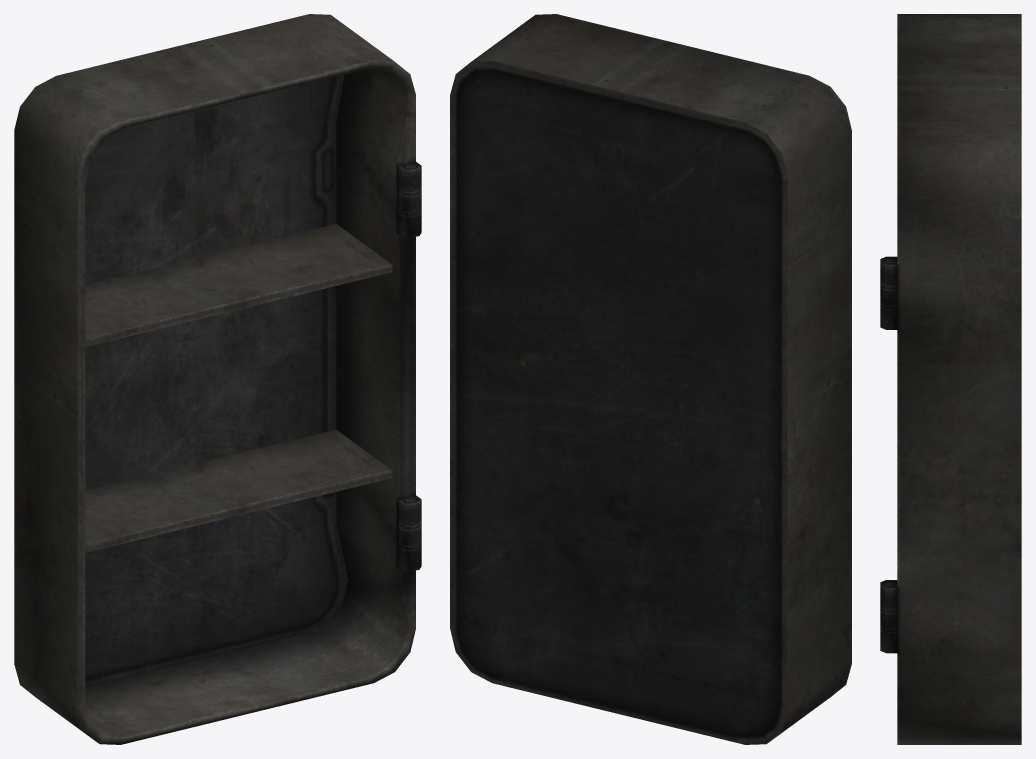
The model's file is cabinet_powerpack_storage_box.dae.
3 views of the same model, side by side, from view 1: azimuth 30°, elevation 25°; view 2: azimuth 150°, elevation 25°; view 3: azimuth 270°, elevation 25° (orthographic). The views are drawn at different scales.
Visible parts, largest first — view 1: boxy, shelves; view 2: boxy; view 3: boxy.
Boxes of the visible parts, x1,y1,x2,y2 form: boxy: (14, 14, 421, 744); shelves: (85, 224, 392, 552); boxy: (450, 14, 851, 744); boxy: (880, 14, 1021, 744).
Bounding box in the file's own units: 0.6388 × 1.13 × 0.2391.
